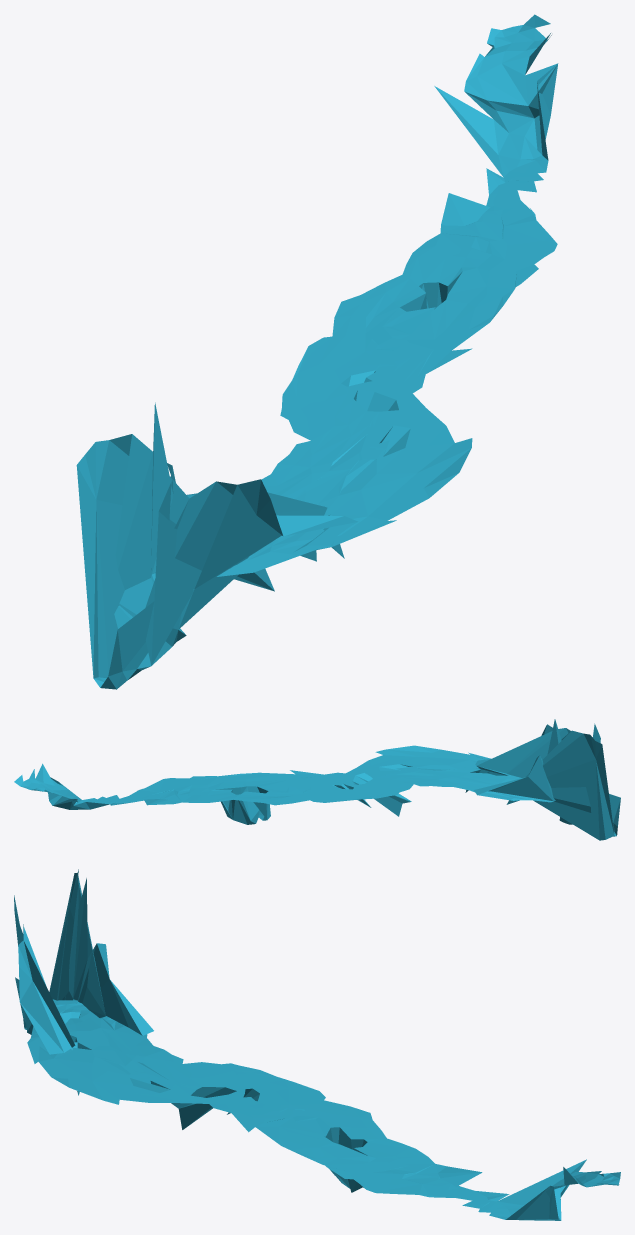
The model's file is river1.dae.
3 views of the same model, one above another, from view 1: azimuth 30°, elevation 25°; view 2: azimuth 150°, elevation 25°; view 3: azimuth 270°, elevation 25° (orthographic). The views are drawn at different scales.
Parts seen in each view (by area): view 1: River; view 2: River; view 3: River.
Part boxes in pixels (x1,y1,x2,y2): River: [76, 14, 558, 689]; River: [14, 719, 620, 840]; River: [14, 869, 620, 1220].
Bounding box in the file's own units: 101 × 85.36 × 28.72.
